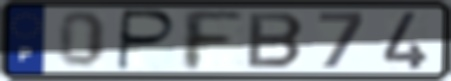0: (56, 9, 108, 71)
4: (379, 10, 431, 72)
7: (314, 10, 369, 72)
B: (245, 11, 308, 71)
F: (178, 8, 247, 73)
P: (114, 7, 180, 73)
